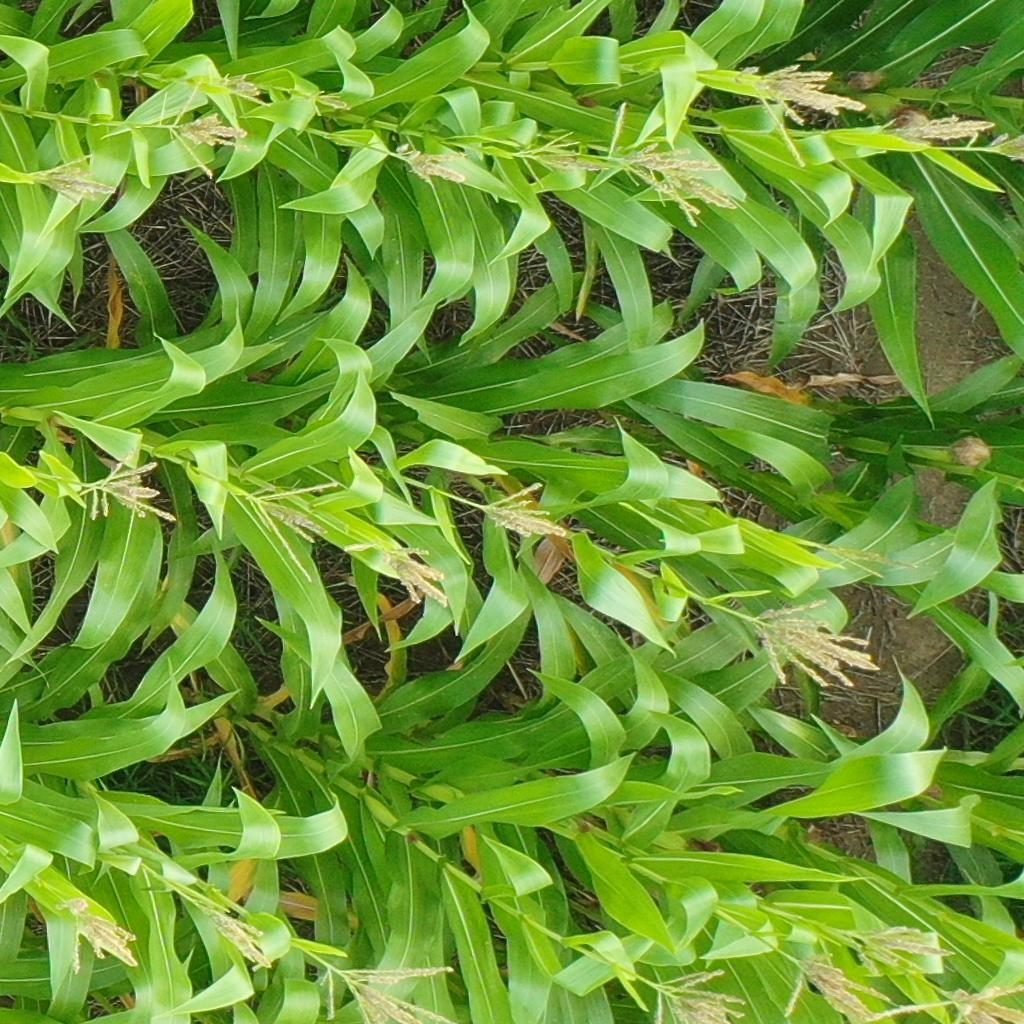Tassel: (735, 62, 869, 167), (749, 597, 878, 686), (245, 477, 339, 582), (159, 76, 250, 182), (600, 104, 720, 184), (77, 441, 176, 526), (320, 964, 456, 1024), (781, 953, 900, 1020), (344, 539, 451, 613), (865, 979, 1024, 1024), (189, 887, 273, 969), (57, 895, 140, 974), (648, 158, 739, 228), (844, 921, 957, 977), (516, 129, 608, 192), (651, 968, 746, 1024), (481, 482, 568, 541), (28, 152, 117, 206), (873, 112, 996, 149), (814, 539, 920, 578), (396, 144, 470, 189), (207, 71, 275, 108), (967, 132, 1024, 163), (309, 89, 349, 119)
